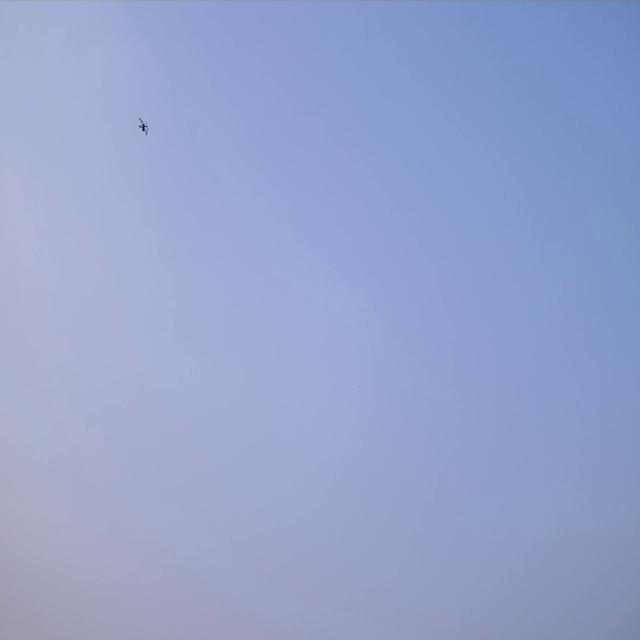UAV: (138, 115, 148, 139)
